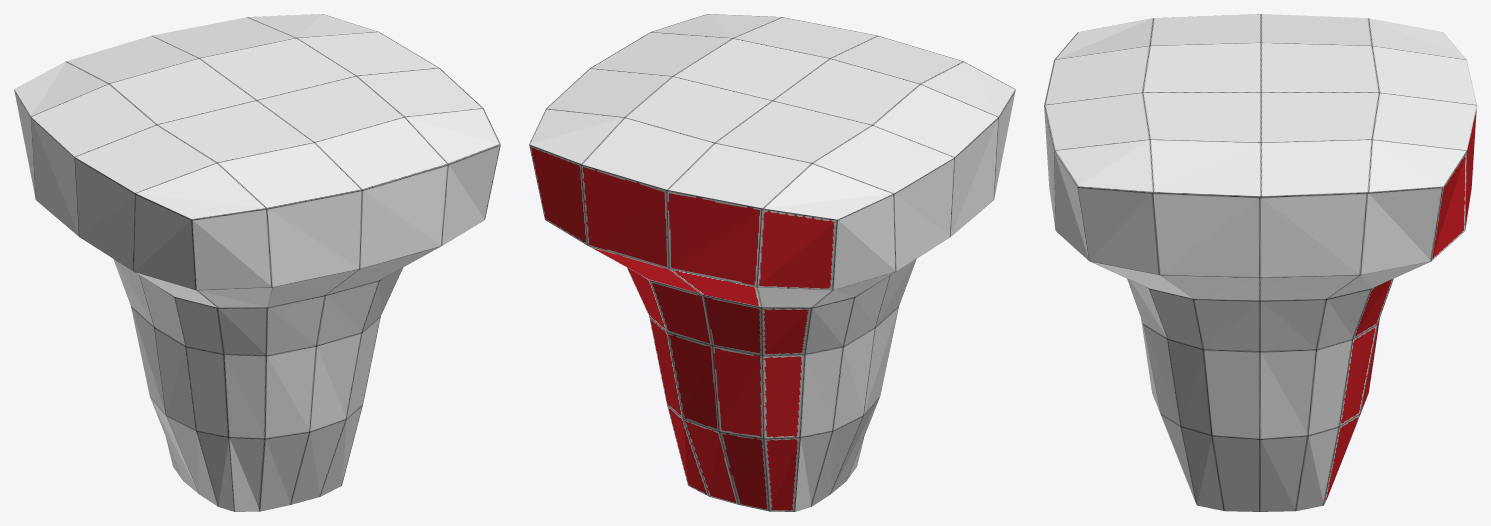
File: injector.obj
3 views of the same model, side by side, from view 1: azimuth 30°, elevation 25°; view 2: azimuth 150°, elevation 25°; view 3: azimuth 270°, elevation 25° (orthographic). The views are drawn at different scales.
Parts seen in each view (by area): view 1: Cube; view 2: Cube; view 3: Cube.
Boxes of the visible parts, <box> form: Cube: <box>14,14,500,511</box>; Cube: <box>529,14,1015,511</box>; Cube: <box>1044,14,1476,511</box>.
Size of the model in its own units: 1.95 by 2 by 1.95.
1 material, 1 textured.
